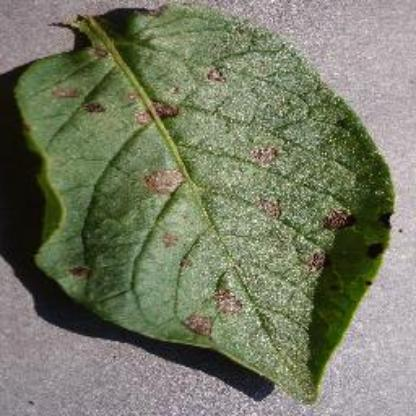Early-Blight: (10, 6, 398, 400)
